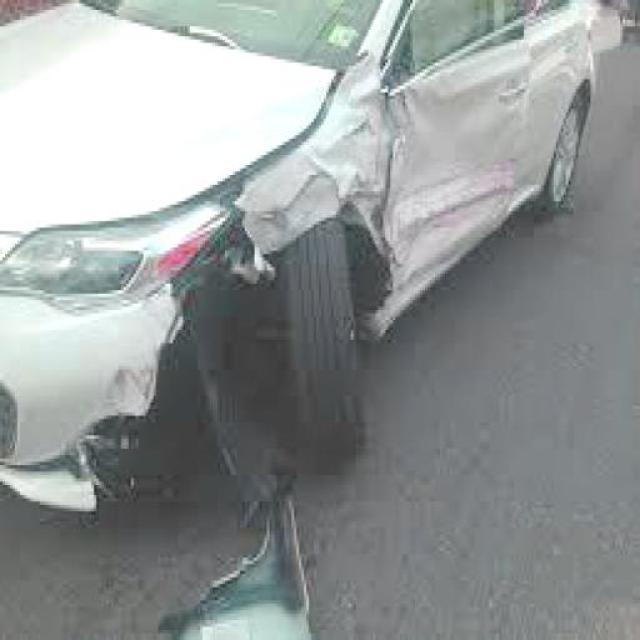Car-Damage: (52, 25, 530, 510)
